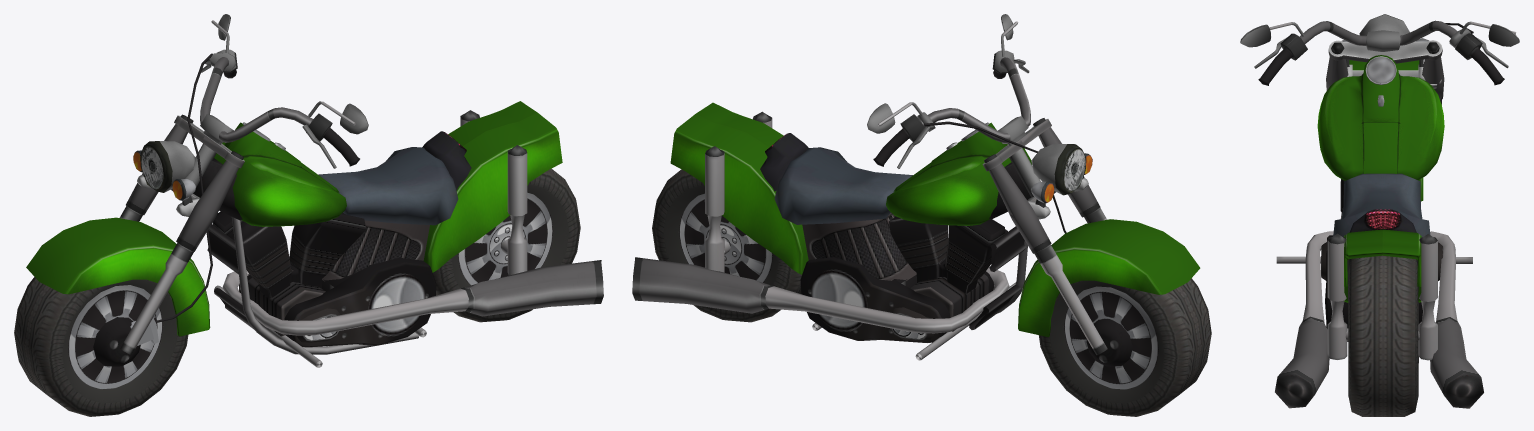
The model's file is Bike_1.fbx.
3 renders of one model, left to right at view 1: azimuth 30°, elevation 25°; view 2: azimuth 150°, elevation 25°; view 3: azimuth 270°, elevation 25°, orthographic. The views are drawn at different scales.
Parts seen in each view (by area): view 1: Body, Steer_Handle, FrontWheel, BackWheel; view 2: Body, Steer_Handle, FrontWheel, BackWheel; view 3: Body, BackWheel, Steer_Handle.
Boxes of the visible parts, left/top/right/bottom form: Body: left=193, top=101, right=603, bottom=367; Steer_Handle: left=26, top=14, right=368, bottom=366; FrontWheel: left=14, top=277, right=188, bottom=416; BackWheel: left=432, top=168, right=580, bottom=322; Body: left=632, top=102, right=1031, bottom=360; Steer_Handle: left=867, top=14, right=1200, bottom=366; FrontWheel: left=1038, top=278, right=1211, bottom=416; BackWheel: left=652, top=169, right=801, bottom=322; Body: left=1275, top=55, right=1483, bottom=408; BackWheel: left=1348, top=255, right=1418, bottom=416; Steer_Handle: left=1240, top=14, right=1519, bottom=201.
Bounding box in the file's own units: 5.75 × 3.08 × 2.69.
